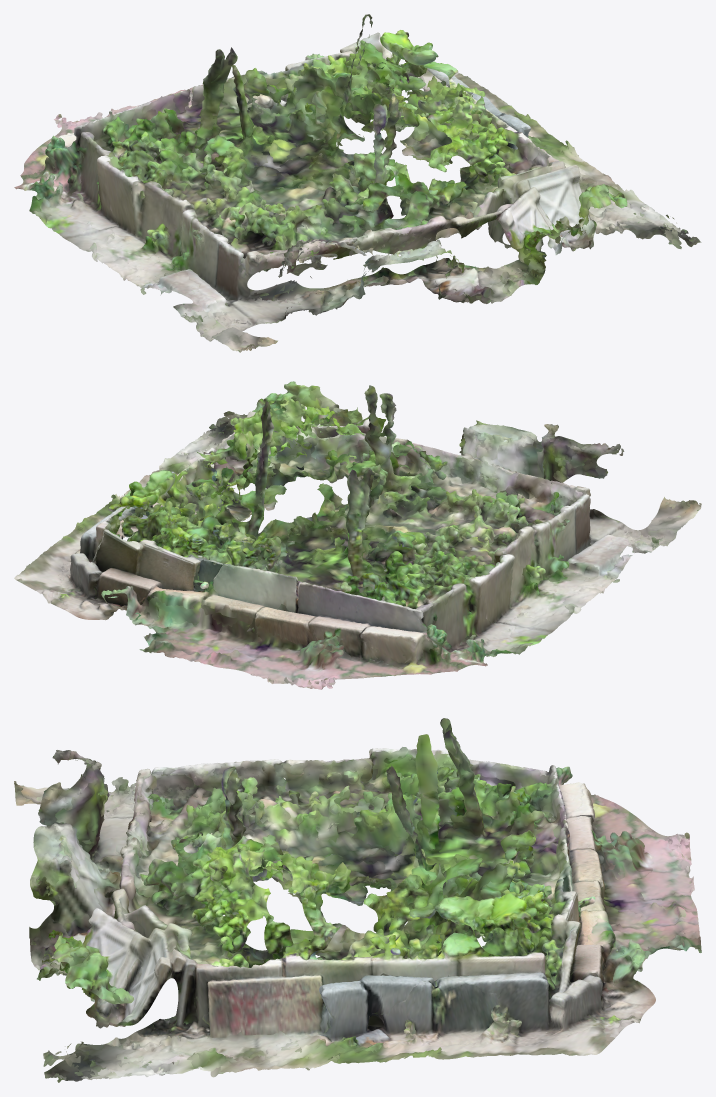
3 views of the same model, one above another, from view 1: azimuth 30°, elevation 25°; view 2: azimuth 150°, elevation 25°; view 3: azimuth 270°, elevation 25° (orthographic). The views are drawn at different scales.
Parts seen in each view (by area): view 1: Object_4, Object_6, Object_5, Object_7; view 2: Object_6, Object_4, Object_5, Object_7; view 3: Object_4, Object_6, Object_5, Object_7.
Part boxes in pixels (x1,y1,x2,y2): Object_4: (24,19,701,352); Object_6: (21,17,696,349); Object_5: (14,14,696,349); Object_7: (31,14,694,347); Object_6: (17,386,701,683); Object_4: (47,385,701,689); Object_5: (14,385,693,689); Object_7: (25,381,690,686); Object_4: (15,750,701,1081); Object_6: (14,737,701,1077); Object_5: (16,718,701,1082); Object_7: (15,718,693,1080).
Bounding box in the file's own units: 2.36 × 0.8079 × 2.41.
Materials: 1 (1 with a texture image).
